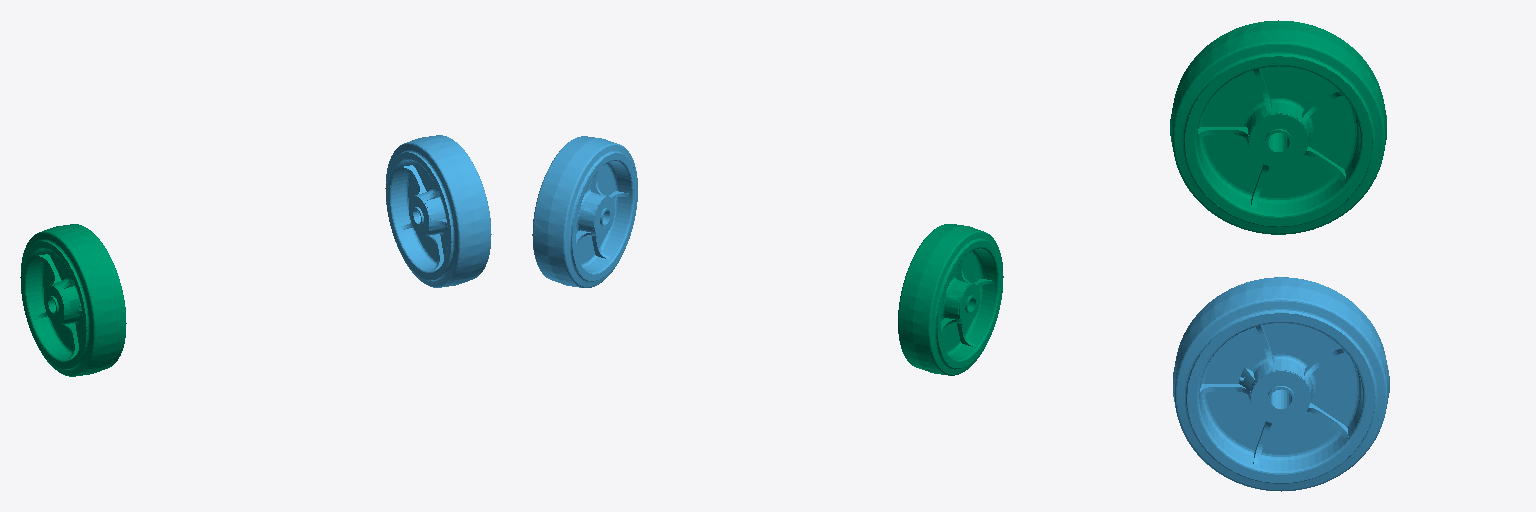
The robot description file, URDF, robot "test33":
<?xml version="1.0"?>
<robot name="test33">

  <!-- Base Link -->
  <link name="base_link">
    <visual>
      <origin xyz="0 0 0" rpy="0 0 0" />
      <geometry>
        <mesh filename="package://urdf_rviz_demo/meshes/base_link.STL" />
      </geometry>
    </visual>
  </link>

  <!-- Left Wheel Link -->
  <link name="left_link">
    <visual>
      <origin xyz="0 0 0" rpy="0 0 0" /> <!-- 메쉬가 로컬 좌표를 따르게 만듦 -->
      <geometry>
        <mesh filename="package://urdf_rviz_demo/meshes/left_link.STL" />
      </geometry>
    </visual>
  </link>

  <!-- Right Wheel Link -->
  <link name="right_link">
    <visual>
      <origin xyz="0 0 0" rpy="0 0 0" /> <!-- 메쉬가 로컬 좌표를 따르게 만듦 -->
      <geometry>
        <mesh filename="package://urdf_rviz_demo/meshes/right_link.STL" />
      </geometry>
    </visual>
  </link>

  <!-- Left Joint -->
  <joint name="left_joint" type="continuous">
    <origin xyz="0.11775 0.11049 0.020926" rpy="0 1.5708 0" />
    <parent link="base_link" />
    <child link="left_link" />
    <axis xyz="0 0 1" />
  </joint>

  <!-- Right Joint -->
  <joint name="right_joint" type="continuous">
    <origin xyz="-0.11775 0.10948 0.021588" rpy="0 1.5708 0" />
    <parent link="base_link" />
    <child link="right_link" />
    <axis xyz="0 0 1" />
  </joint>

</robot>

--- Render facts (derived) ---
Views: 3 orthographic renders of the robot side by side, from view 1: azimuth 30°, elevation 25°; view 2: azimuth 150°, elevation 25°; view 3: azimuth 270°, elevation 25°.
Robot: test33 — 3 links, 2 joints (2 continuous); root link base_link; default pose: every joint at zero.
Links seen in each view (by area): view 1: left_link, right_link; view 2: left_link, right_link; view 3: left_link, right_link.
Link boxes in pixels (x1,y1,x2,y2): left_link: [385, 135, 491, 287]; right_link: [20, 224, 126, 376]; left_link: [532, 136, 637, 287]; right_link: [898, 224, 1003, 375]; left_link: [1173, 277, 1389, 491]; right_link: [1170, 20, 1386, 234].
Size in the robot's own frame: 0.2979 by 0.0967 by 0.0967 metres.
Meshes: 3 distinct files referenced, 2 mesh visuals loaded (2 binary STL); not drawn: 1 (reference not matched to a file when rendering).
